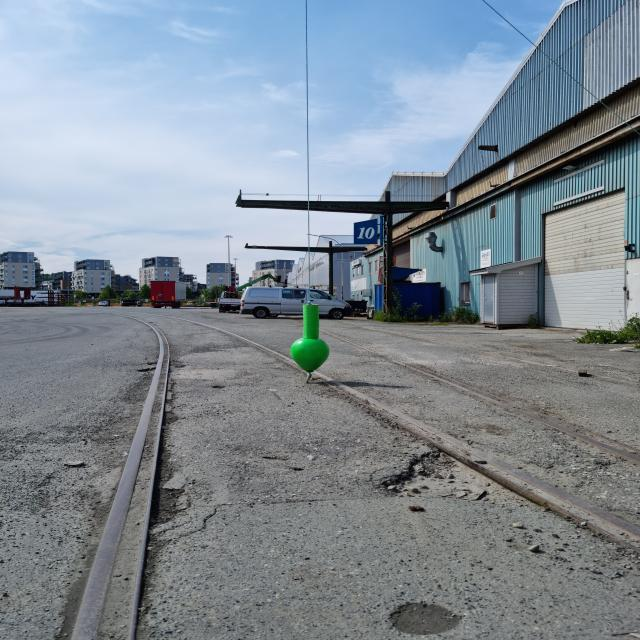green: (291, 306, 329, 372)
